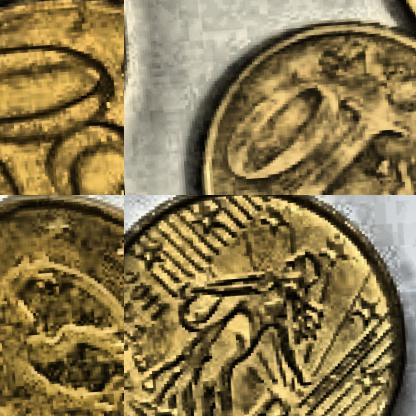coin: (124, 195, 415, 415), (186, 12, 415, 194), (0, 195, 123, 415), (0, 0, 123, 194)
